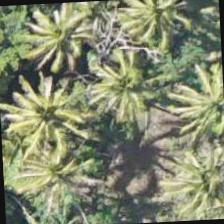Kelapa_Sawit: (12, 64, 108, 159), (15, 0, 108, 92), (91, 0, 186, 80), (158, 135, 223, 222), (164, 45, 223, 139), (7, 176, 100, 223)
